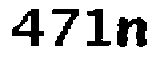1: (84, 6, 114, 51)
4: (9, 6, 46, 49)
7: (50, 5, 80, 52)
n: (116, 13, 151, 51)
